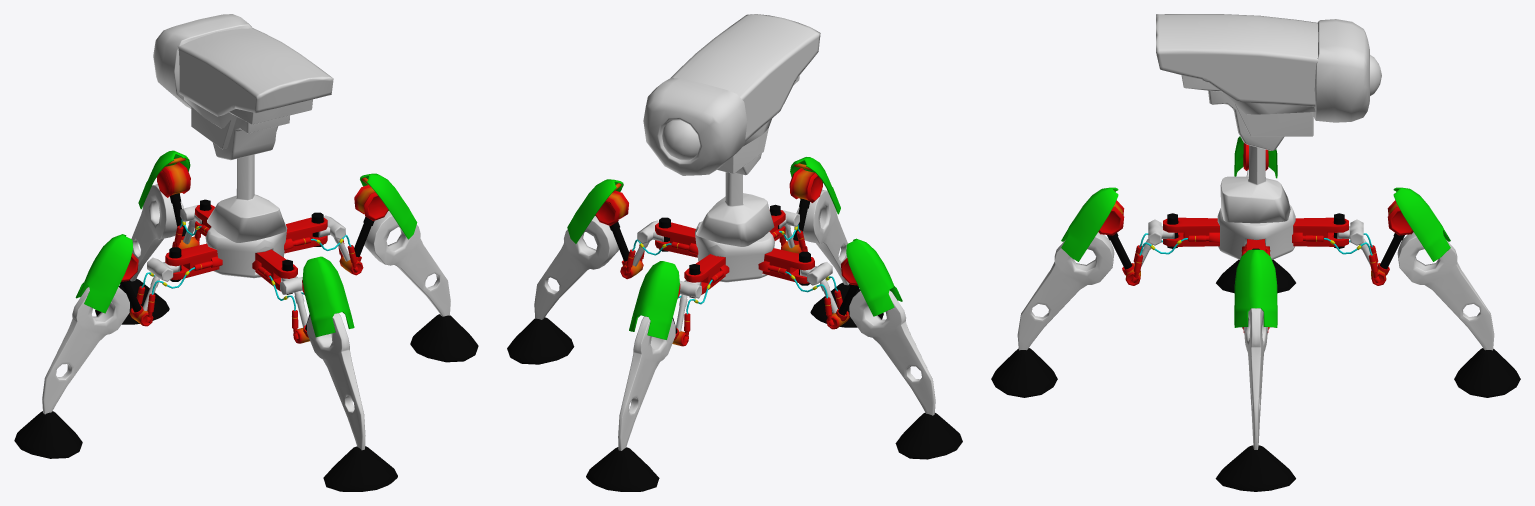
The model's file is MSH_SENTINELLE.fbx.
The picture shows the model from 3 angles, left to right: view 1: azimuth 30°, elevation 25°; view 2: azimuth 150°, elevation 25°; view 3: azimuth 270°, elevation 25°; orthographic projection. The views are drawn at different scales.
Visible parts, largest first — view 1: feet_low, head_low, wrist_low, arm_base_low, chest_low, front_arm_low, headfront_low, body_low, neck_low, arm_axis_low, cable_low, elbow_low (+1 smaller); view 2: feet_low, head_low, wrist_low, headfront_low, arm_base_low, chest_low, front_arm_low, body_low, arm_axis_low, cable_low, head_camera_low, elbow_low (+1 smaller); view 3: feet_low, head_low, wrist_low, headfront_low, chest_low, arm_base_low, body_low, front_arm_low, neck_low, arm_axis_low, cable_low.
Part boxes in pixels (left/top/right/bottom): feet_low: left=14, top=184, right=478, bottom=491; head_low: left=177, top=28, right=333, bottom=149; wrist_low: left=75, top=150, right=417, bottom=337; arm_base_low: left=165, top=199, right=327, bottom=294; chest_low: left=207, top=154, right=286, bottom=242; front_arm_low: left=120, top=162, right=388, bottom=337; headfront_low: left=153, top=14, right=252, bottom=108; body_low: left=205, top=219, right=287, bottom=278; neck_low: left=212, top=115, right=289, bottom=160; arm_axis_low: left=147, top=204, right=345, bottom=294; cable_low: left=136, top=219, right=357, bottom=333; elbow_low: left=129, top=236, right=363, bottom=343; feet_low: left=507, top=189, right=962, bottom=491; head_low: left=671, top=14, right=820, bottom=173; wrist_low: left=567, top=157, right=902, bottom=339; headfront_low: left=643, top=78, right=747, bottom=175; arm_base_low: left=655, top=204, right=814, bottom=298; chest_low: left=696, top=172, right=774, bottom=246; front_arm_low: left=595, top=168, right=858, bottom=340; body_low: left=695, top=221, right=774, bottom=282; arm_axis_low: left=637, top=210, right=832, bottom=298; cable_low: left=626, top=224, right=842, bottom=336; head_camera_low: left=662, top=120, right=699, bottom=160; elbow_low: left=620, top=241, right=849, bottom=346; feet_low: left=991, top=169, right=1520, bottom=491; head_low: left=1156, top=14, right=1319, bottom=136; wrist_low: left=1061, top=136, right=1450, bottom=327; headfront_low: left=1313, top=19, right=1369, bottom=122; chest_low: left=1220, top=145, right=1290, bottom=223; arm_base_low: left=1163, top=213, right=1348, bottom=255; body_low: left=1217, top=205, right=1295, bottom=259; front_arm_low: left=1098, top=143, right=1413, bottom=275; neck_low: left=1208, top=90, right=1284, bottom=150; arm_axis_low: left=1148, top=219, right=1363, bottom=245; cable_low: left=1133, top=233, right=1378, bottom=278.
Bounding box in the file's own units: 167 × 124 × 167.
